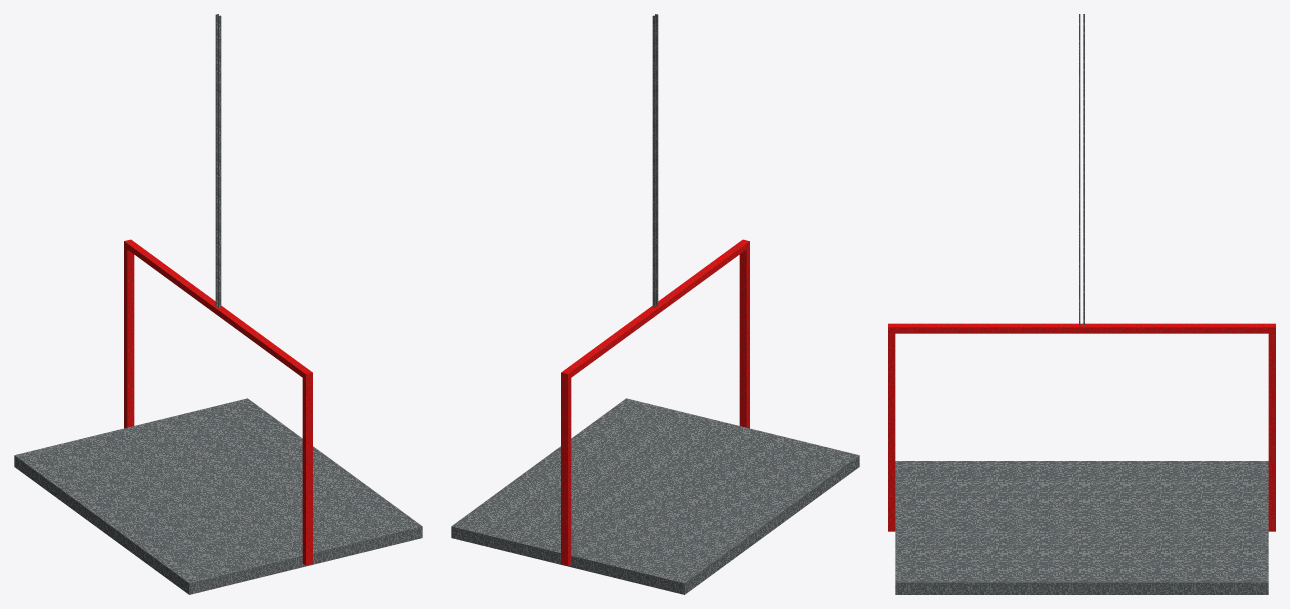
Rendered from CONTAINER CARRIER FOR CRANE.fbx.
The picture shows the model from 3 angles, left to right: view 1: azimuth 30°, elevation 25°; view 2: azimuth 150°, elevation 25°; view 3: azimuth 270°, elevation 25°; orthographic projection. The views are drawn at different scales.
Parts seen in each view (by area): view 1: CONTAINER_CARRIER_FOR_CRANE; view 2: CONTAINER_CARRIER_FOR_CRANE; view 3: CONTAINER_CARRIER_FOR_CRANE.
Boxes of the visible parts, x1,y1,x2,y2 form: CONTAINER_CARRIER_FOR_CRANE: (14, 14, 422, 594); CONTAINER_CARRIER_FOR_CRANE: (451, 14, 859, 594); CONTAINER_CARRIER_FOR_CRANE: (888, 14, 1275, 594).
Size of the model in its own units: 703 by 1402 by 949.
2 materials, 2 textured.
